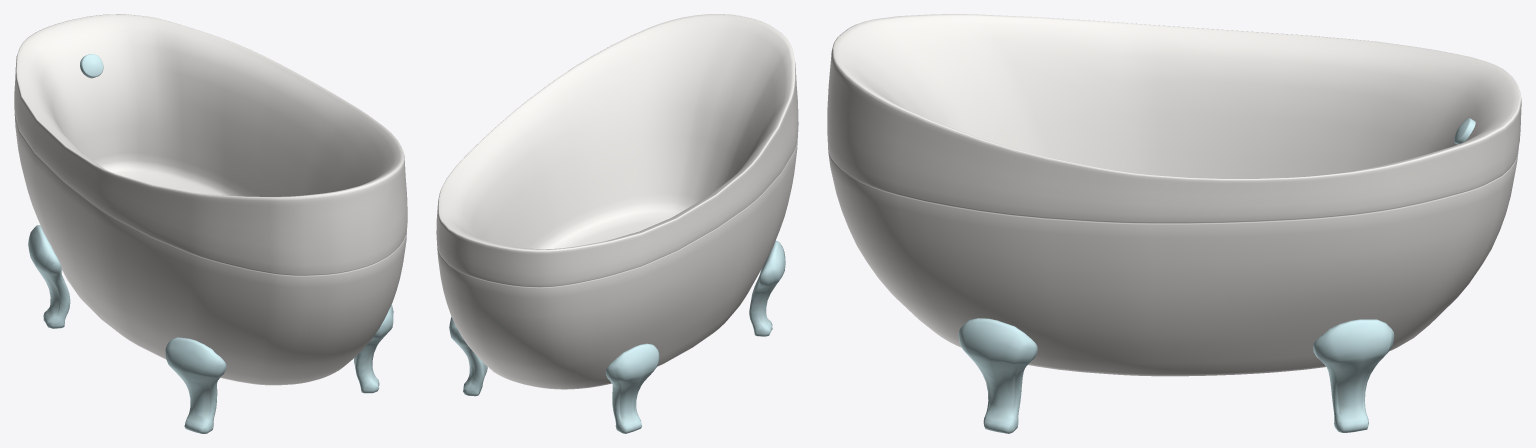
The model's file is visual_LowPoly_01_Bathtub.dae.
The picture shows the model from 3 angles, left to right: view 1: azimuth 30°, elevation 25°; view 2: azimuth 150°, elevation 25°; view 3: azimuth 270°, elevation 25°; orthographic projection. The views are drawn at different scales.
Visible parts, largest first — view 1: SM_bathtub; view 2: SM_bathtub; view 3: SM_bathtub.
Part boxes in pixels (bbox=[...]): SM_bathtub: bbox=[14, 14, 407, 433]; SM_bathtub: bbox=[436, 14, 798, 433]; SM_bathtub: bbox=[827, 14, 1521, 433].
Bounding box in the file's own units: 83.23 × 159 × 83.
Materials: 1 (1 with a texture image).
